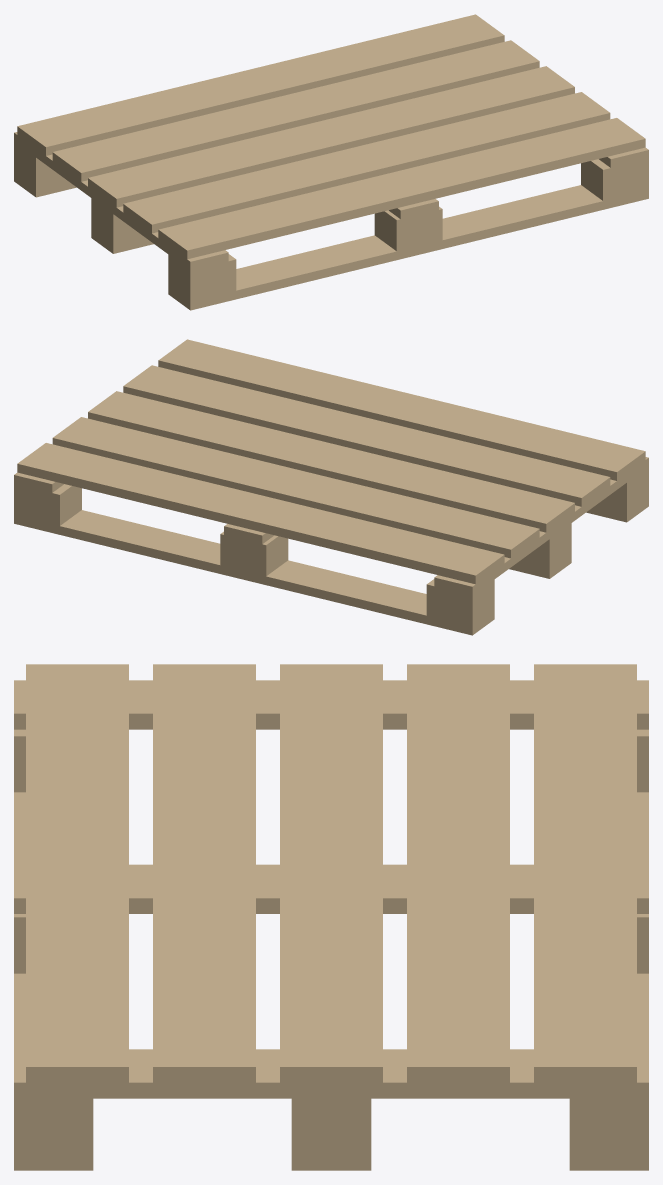
File: pallet.glb
3 renders of one model, top to bottom at view 1: azimuth 30°, elevation 25°; view 2: azimuth 150°, elevation 25°; view 3: azimuth 270°, elevation 25°, orthographic. The views are drawn at different scales.
Parts seen in each view (by area): view 1: Cube, Cube.001, Cube.003, Cube.004, Cube.002, Cube.017, Cube.005, Cube.006, Cube.014, Cube.010, Cube.007, Cube.008 (+4 smaller); view 2: Cube.004, Cube, Cube.001, Cube.003, Cube.002, Cube.019, Cube.005, Cube.008, Cube.016, Cube.012, Cube.007, Cube.006 (+4 smaller); view 3: Cube, Cube.001, Cube.002, Cube.003, Cube.004, Cube.013, Cube.005, Cube.009, Cube.015, Cube.014, Cube.016, Cube.017 (+6 smaller).
Part boxes in pixels (x1,y1,x2,y2): Cube: (158,118,645,259); Cube.001: (123,92,610,233); Cube.003: (52,40,539,181); Cube.004: (17,14,504,155); Cube.002: (88,66,574,207); Cube.017: (168,185,648,310); Cube.005: (14,132,228,270); Cube.006: (168,254,236,301); Cube.014: (581,159,648,200); Cube.010: (374,206,442,251); Cube.007: (91,198,144,245); Cube.008: (14,141,67,188); Cube.004: (17,443,504,584); Cube: (158,339,645,480); Cube.001: (123,365,610,506); Cube.003: (52,417,539,558); Cube.002: (88,391,574,532); Cube.019: (14,510,494,635); Cube.005: (434,457,648,595); Cube.008: (426,579,494,626); Cube.016: (14,484,81,525); Cube.012: (220,531,288,576); Cube.007: (518,523,571,570); Cube.006: (595,466,648,513); Cube: (26,664,128,1082); Cube.001: (153,664,255,1082); Cube.002: (280,664,382,1082); Cube.003: (407,664,509,1082); Cube.004: (534,664,636,1082); Cube.013: (14,1049,648,1098); Cube.005: (14,680,648,729); Cube.009: (14,864,648,913); Cube.015: (291,1098,371,1154); Cube.014: (14,1098,93,1154); Cube.016: (569,1098,648,1154); Cube.017: (14,792,93,1170).
Bounding box in the file's own units: 1.2 × 0.144 × 0.8.
